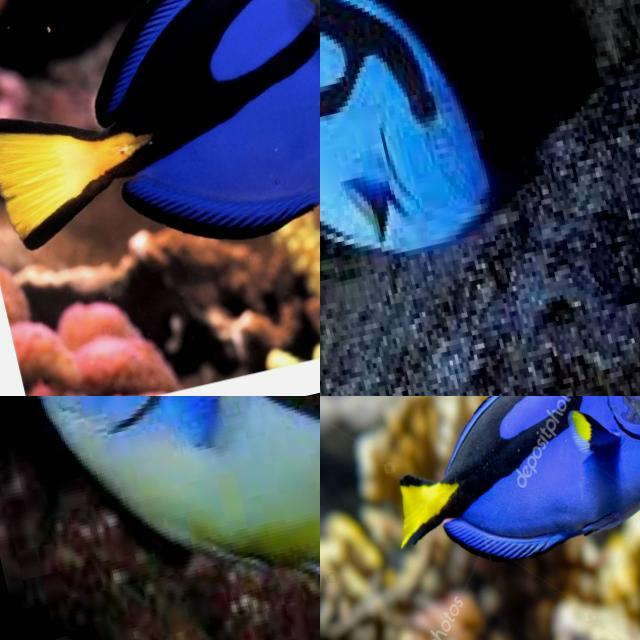BlueTang: (0, 0, 320, 250), (320, 0, 493, 259), (400, 396, 640, 558)
